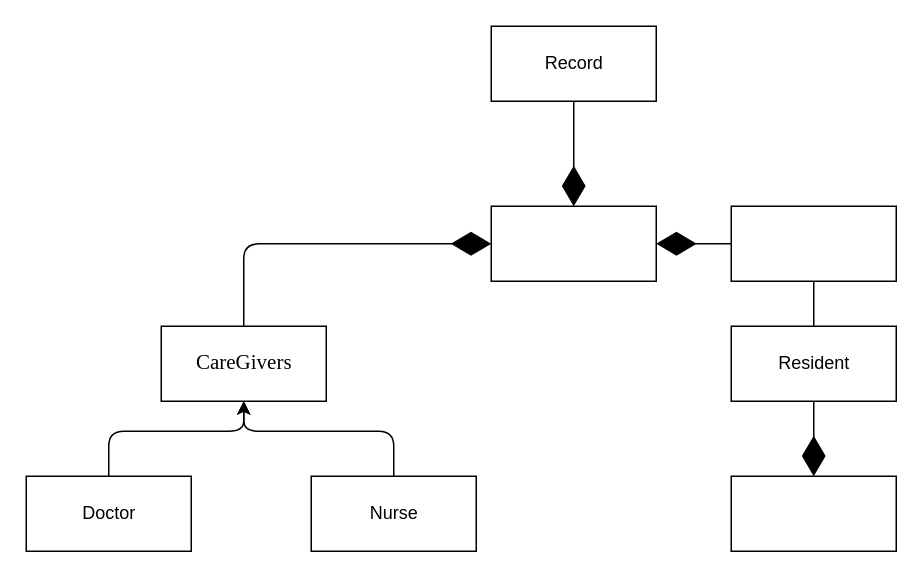
The diagram is 923 pixels wide and 578 high, and some of its shapes have lost their labels. The shapes that lost their labels are listed below. From the top down, each one's centre as x and y in pixels, then its label:
the point at 573,243: Hospital
the point at 813,243: Patient
the point at 813,513: Village
